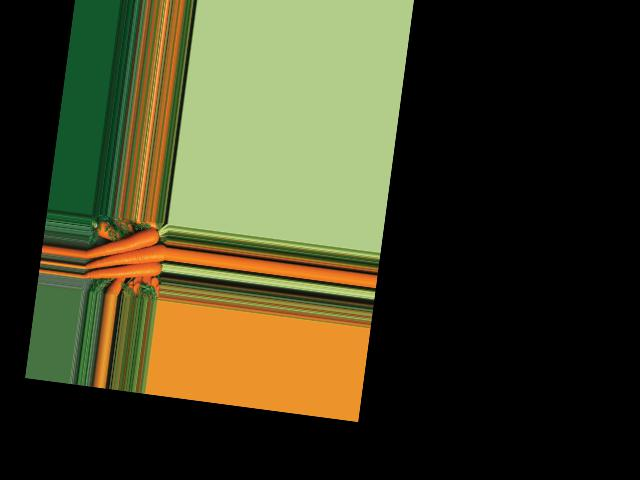carrot: (87, 218, 159, 267)
